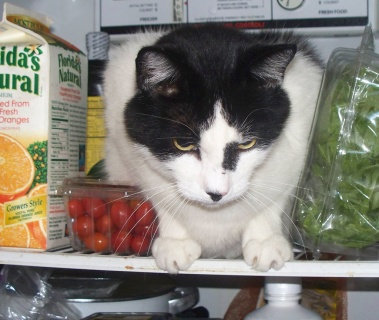Cat: (86, 18, 322, 275)
